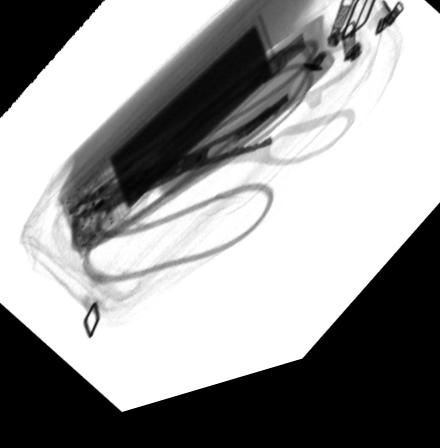Powerbank: (54, 27, 278, 265)
Scissors: (57, 57, 361, 226)
